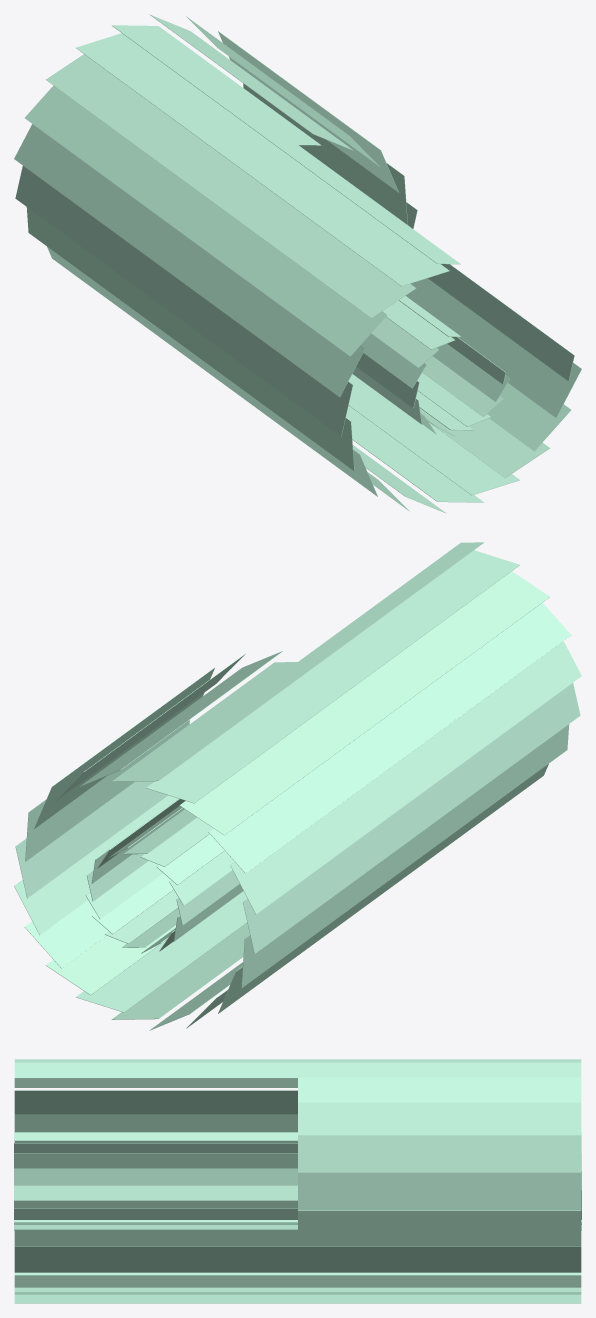
Rendered from ITK-Pixel-Layout-Inner-Barrel-cut4.glb.
3 renders of one model, top to bottom at view 1: azimuth 30°, elevation 25°; view 2: azimuth 150°, elevation 25°; view 3: azimuth 270°, elevation 25°, orthographic. The views are drawn at different scales.
Parts seen in each view (by area): view 1: ITK_Pixel_Layout_Inner_Barrel Cut 4; view 2: ITK_Pixel_Layout_Inner_Barrel Cut 4; view 3: ITK_Pixel_Layout_Inner_Barrel Cut 4.
Part boxes in pixels (x1=…): ITK_Pixel_Layout_Inner_Barrel Cut 4: x1=14, y1=14, x2=581, y2=513; ITK_Pixel_Layout_Inner_Barrel Cut 4: x1=14, y1=542, x2=581, y2=1030; ITK_Pixel_Layout_Inner_Barrel Cut 4: x1=14, y1=1059, x2=581, y2=1303.
Size of the model in its own units: 0.2106 by 0.2106 by 0.4918.
